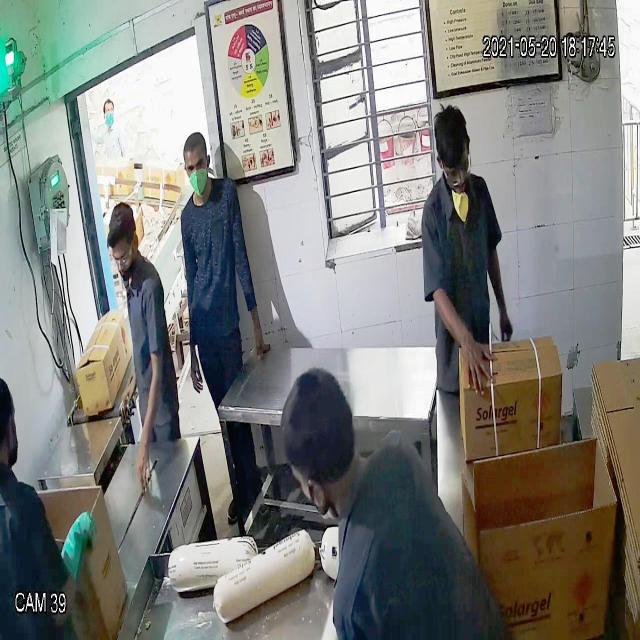glasses: (440, 154, 476, 187), (106, 242, 136, 266)
no-glass: (181, 154, 211, 178)
